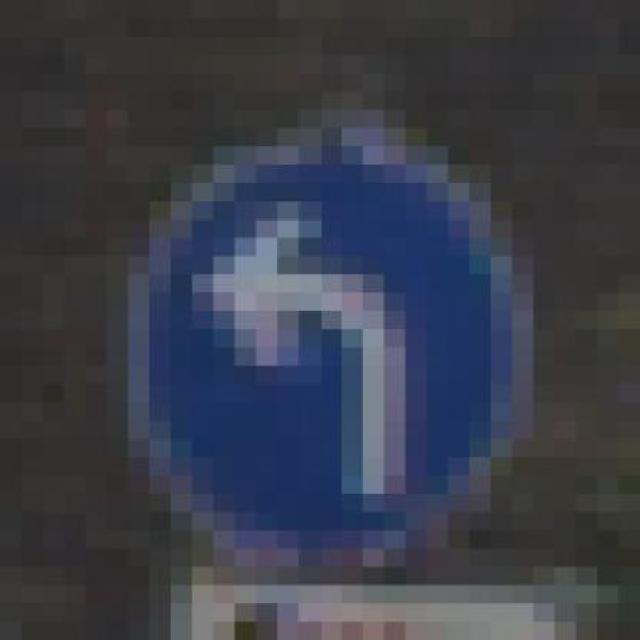Turn left ahead: (107, 110, 555, 585)
